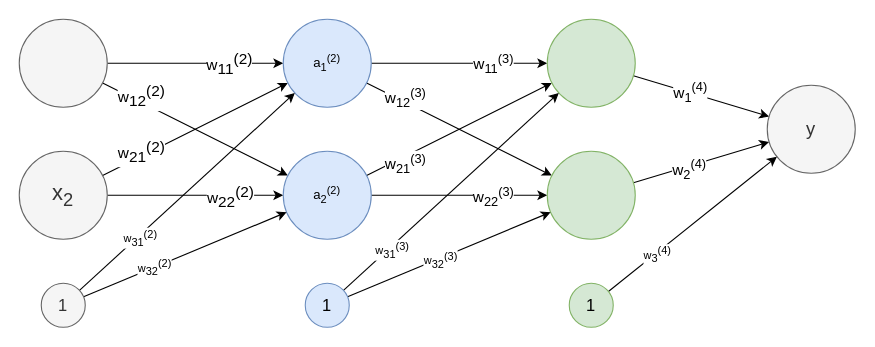
Some shapes in this 875 by 347 pixel diagram are drawn without their labels. Each missing label, with the box of its shape:
a 1 (3): (546, 18, 635, 107)
a 2 (3): (546, 150, 635, 239)
x 1: (18, 18, 107, 107)
